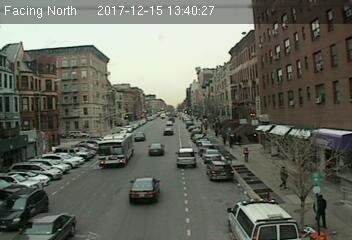bus: (97, 132, 134, 167)
car: (1, 186, 50, 229), (10, 212, 75, 240), (127, 175, 163, 203), (206, 161, 234, 180), (175, 147, 198, 167), (146, 143, 166, 156), (202, 150, 221, 162)
pedestrian: (277, 167, 288, 191), (241, 145, 248, 163)
police: (225, 197, 301, 240)
